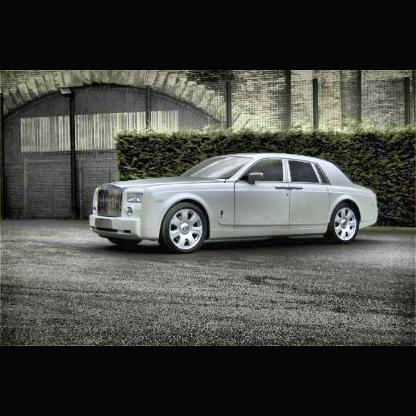Rolls-Royce Phantom Sedan 2012: (79, 146, 380, 257)
